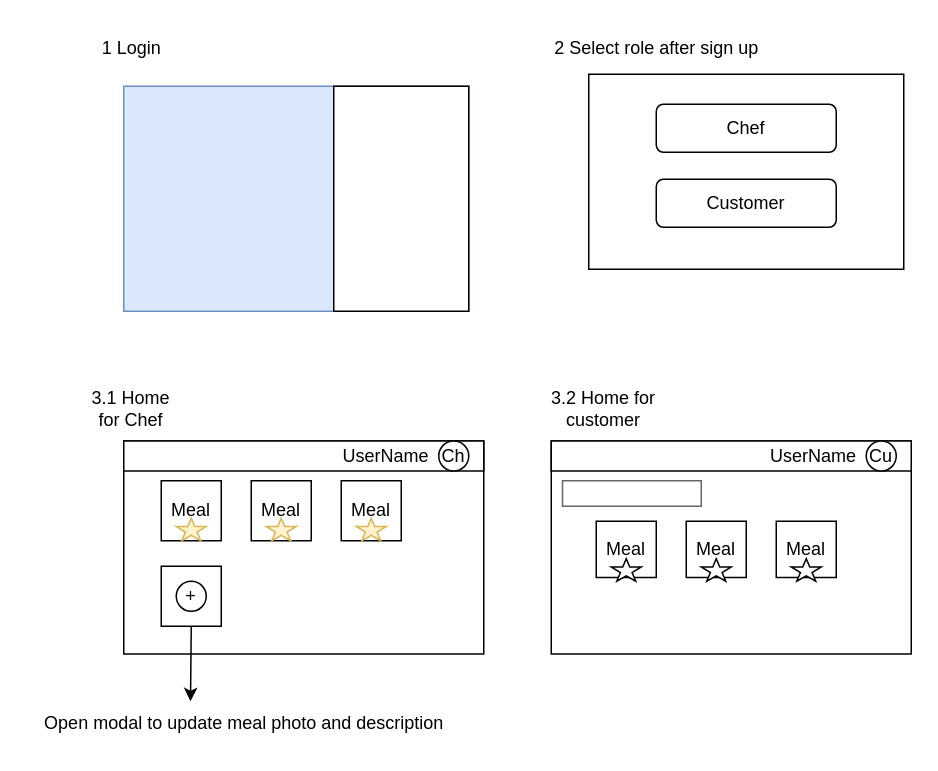
This 938x771 diagram has some shape labels left out. The shapes that lost their labels are listed below. From the top down, each one's centre as x and y in pixels, then its label:
At point (400, 198): "Signup/Signin".
At point (631, 492): "ChefFilter".
